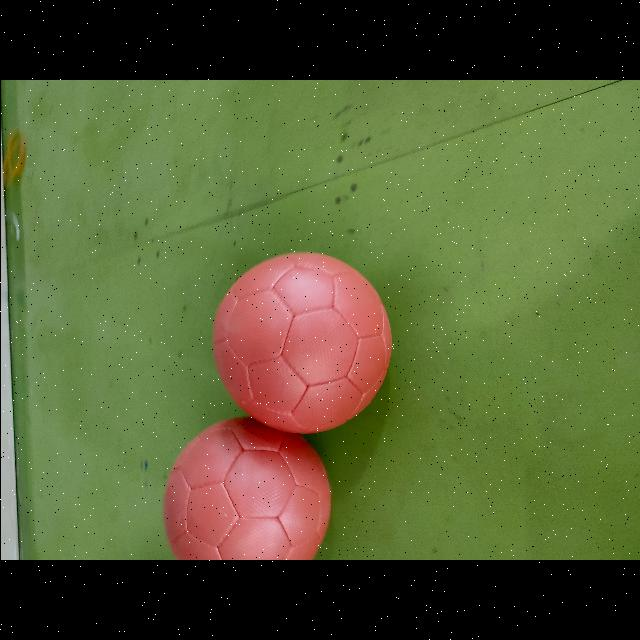R: (212, 253, 388, 433), (163, 418, 329, 560)
